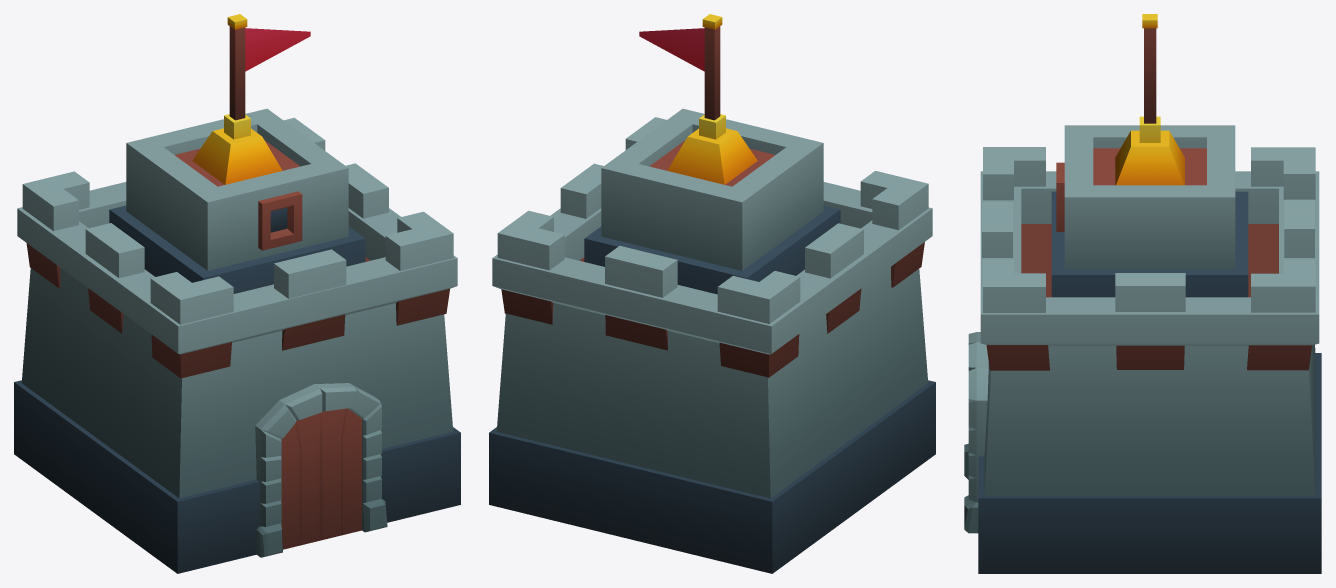
The model's file is building_tower_small.fbx.
3 views of the same model, side by side, from view 1: azimuth 30°, elevation 25°; view 2: azimuth 150°, elevation 25°; view 3: azimuth 270°, elevation 25° (orthographic). The views are drawn at different scales.
Parts seen in each view (by area): view 1: Castle.02, Castle.02,Flag; view 2: Castle.02, Castle.02,Flag; view 3: Castle.02.
Part boxes in pixels (<box>): Castle.02: <box>14,14,460,573</box>; Castle.02,Flag: <box>245,28,310,71</box>; Castle.02: <box>489,14,935,573</box>; Castle.02,Flag: <box>639,28,704,71</box>; Castle.02: <box>964,14,1321,573</box>.
Bounding box in the file's own units: 355 × 552 × 370.
